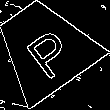P_NW: (13, 16, 75, 78)
